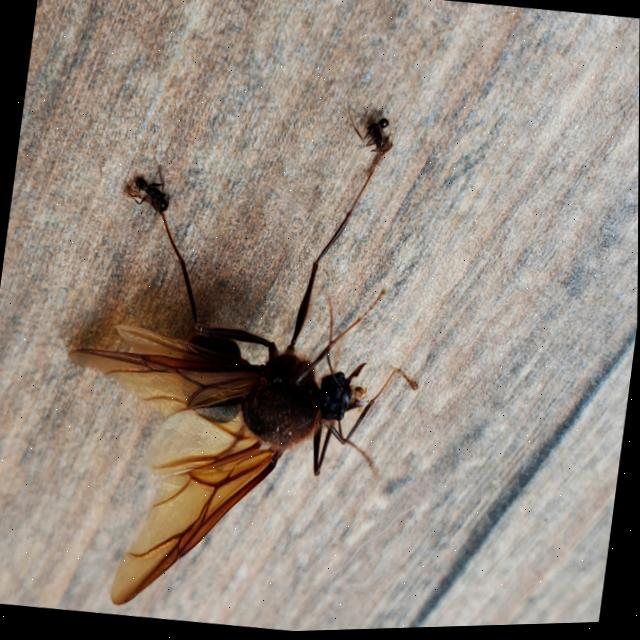Alive-Male-Alate: (30, 83, 451, 639)
